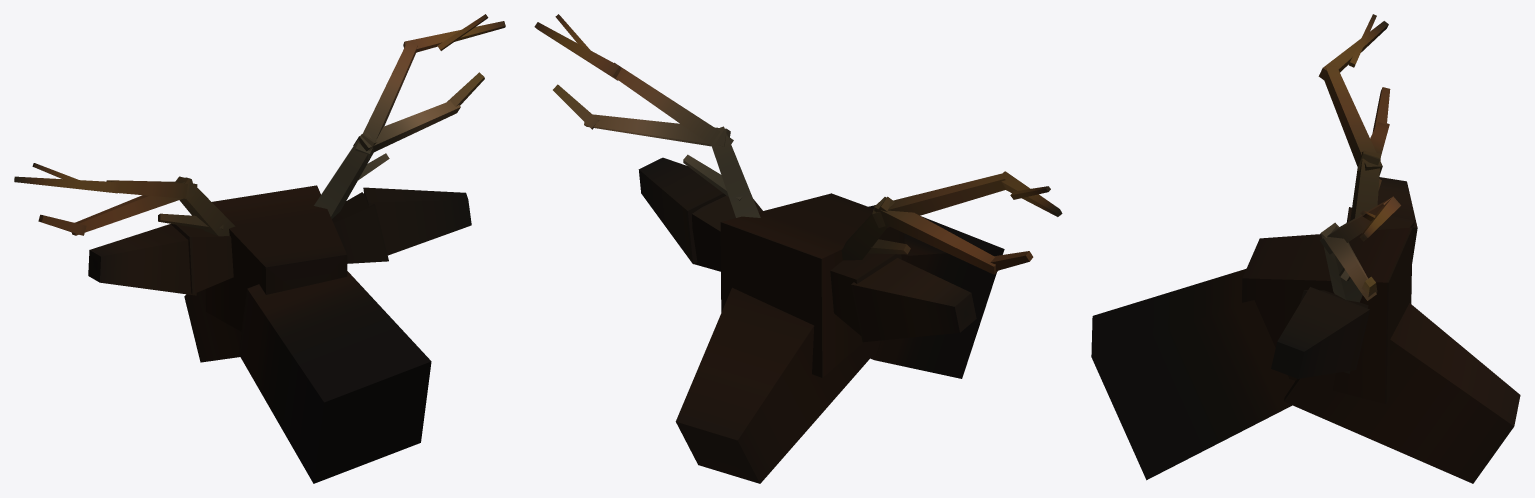
File: animal_01_quill.fbx
3 renders of one model, left to right at view 1: azimuth 30°, elevation 25°; view 2: azimuth 150°, elevation 25°; view 3: azimuth 270°, elevation 25°, orthographic. The views are drawn at different scales.
Visible parts, largest first — view 1: Animal_01_quill; view 2: Animal_01_quill; view 3: Animal_01_quill.
Part boxes in pixels (x1,y1,x2,y2): Animal_01_quill: [14, 14, 505, 483]; Animal_01_quill: [534, 14, 1062, 483]; Animal_01_quill: [1091, 14, 1520, 483].
Size of the model in its own units: 3.22 by 2.13 by 2.2.
